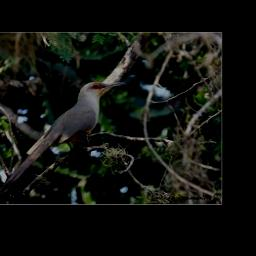Cuckoo: (0, 80, 128, 195)
